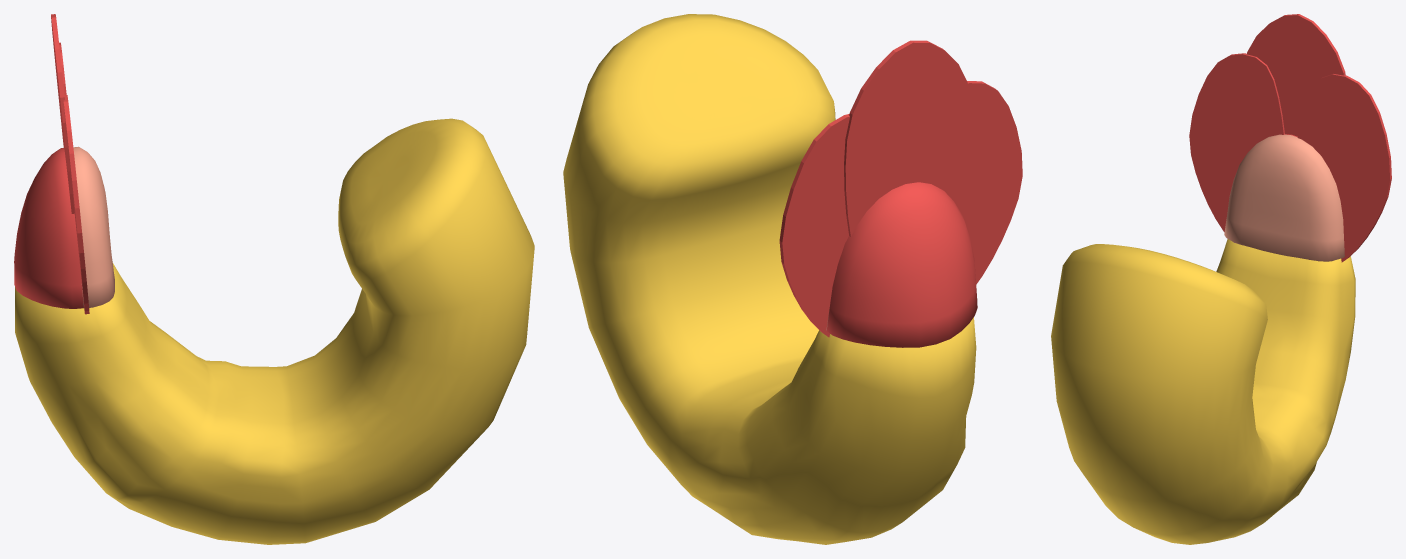
The model's file is fried_shrimp.glb.
3 views of the same model, side by side, from view 1: azimuth 30°, elevation 25°; view 2: azimuth 150°, elevation 25°; view 3: azimuth 270°, elevation 25° (orthographic). The views are drawn at different scales.
Visible parts, largest first — view 1: Cube.426; view 2: Cube.426; view 3: Cube.426.
Boxes of the visible parts, left/top/right/bottom form: Cube.426: left=14, top=14, right=534, bottom=544; Cube.426: left=563, top=14, right=1022, bottom=544; Cube.426: left=1051, top=14, right=1391, bottom=544.
Size of the model in its own units: 1.82 by 2.14 by 1.49.
Materials: 1 (1 with a texture image).
